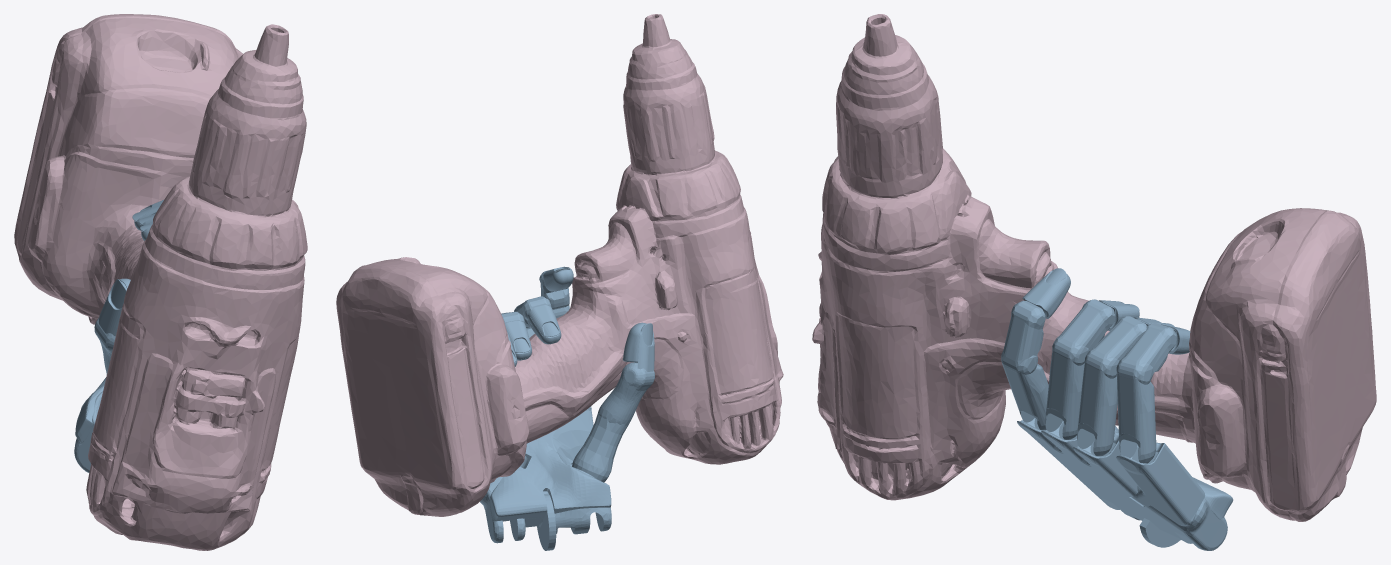
The picture shows the model from 3 angles, left to right: view 1: azimuth 30°, elevation 25°; view 2: azimuth 150°, elevation 25°; view 3: azimuth 270°, elevation 25°; orthographic projection. The views are drawn at different scales.
Visible parts, largest first — view 1: obj_mesh_grasp_90.obj, world; view 2: obj_mesh_grasp_90.obj, world; view 3: obj_mesh_grasp_90.obj, world.
Boxes of the visible parts, x1,y1,x2,y2 form: obj_mesh_grasp_90.obj: (14, 14, 307, 550); world: (74, 200, 163, 472); obj_mesh_grasp_90.obj: (336, 14, 783, 516); world: (480, 266, 654, 550); obj_mesh_grasp_90.obj: (812, 14, 1376, 521); world: (1001, 268, 1233, 550).
Bounding box in the file's own units: 0.2112 × 0.3178 × 0.3043.
